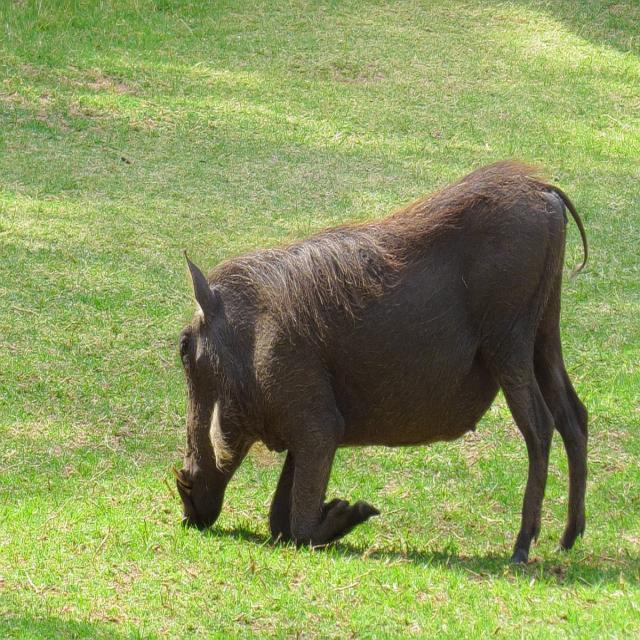pig: (176, 159, 590, 567)
